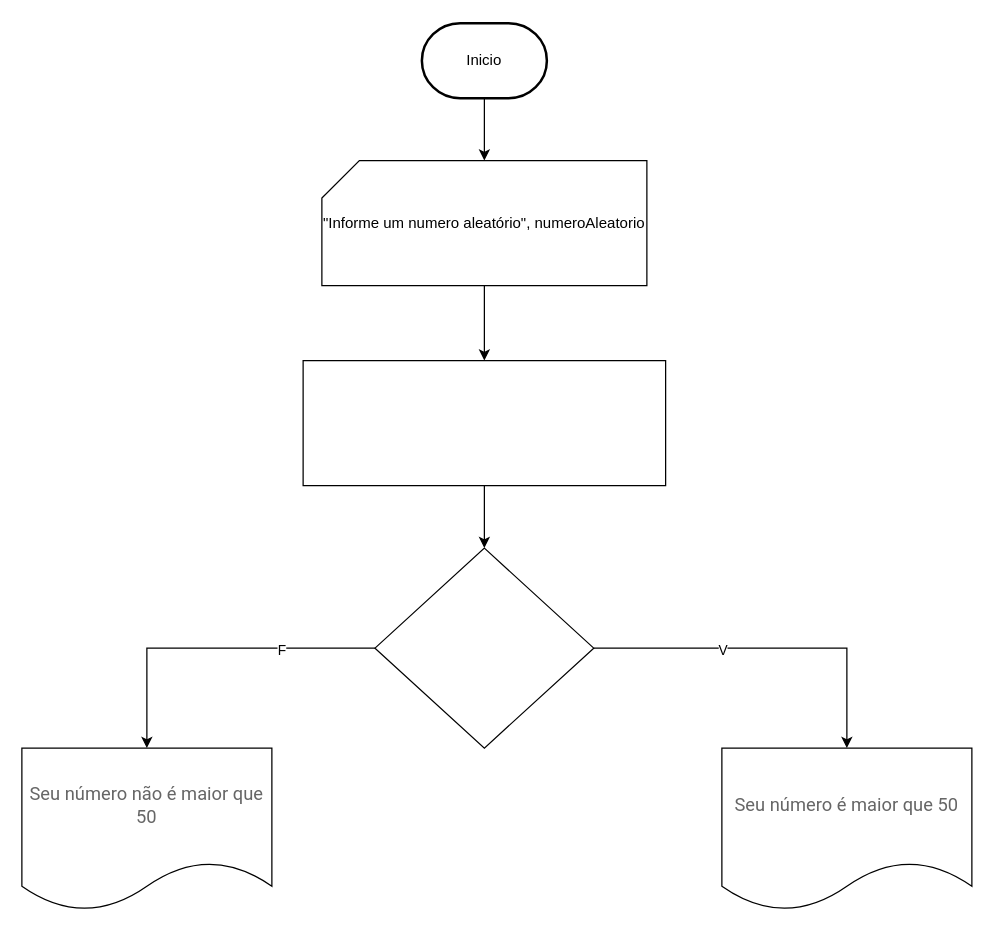
The diagram is 994 pixels wide and 933 high, and some of its shapes have lost their labels. Each missing label, with the centre of its shape:
numeroCalculado = (NumeroAleatorio * 2) + 10;: the point at 484,422
Se(NumeroCalculado > 50): the point at 484,647
